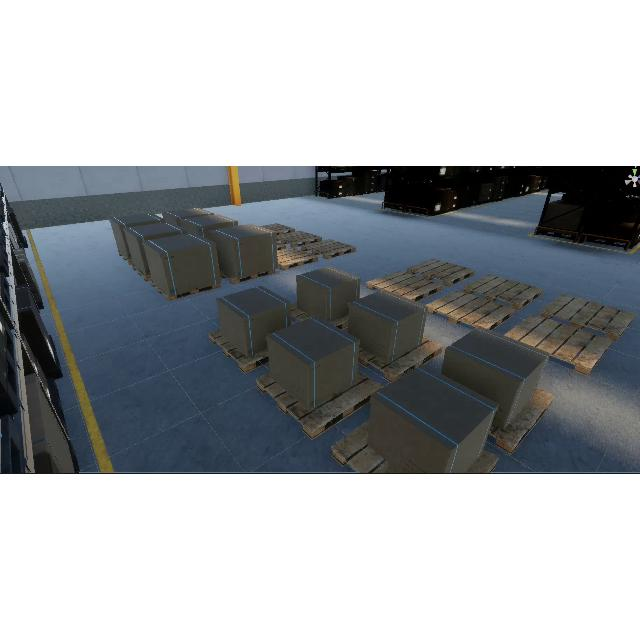wooden_pallet: (254, 368, 383, 443), (504, 316, 613, 377), (538, 292, 634, 342), (485, 383, 551, 448), (331, 414, 403, 473), (359, 335, 443, 384), (425, 288, 515, 330), (206, 328, 271, 375), (464, 272, 542, 309), (366, 270, 442, 302), (407, 258, 477, 287), (148, 279, 221, 301), (458, 441, 499, 473), (301, 239, 357, 260), (276, 247, 317, 271), (220, 269, 276, 285), (275, 231, 322, 248), (258, 223, 295, 235)
